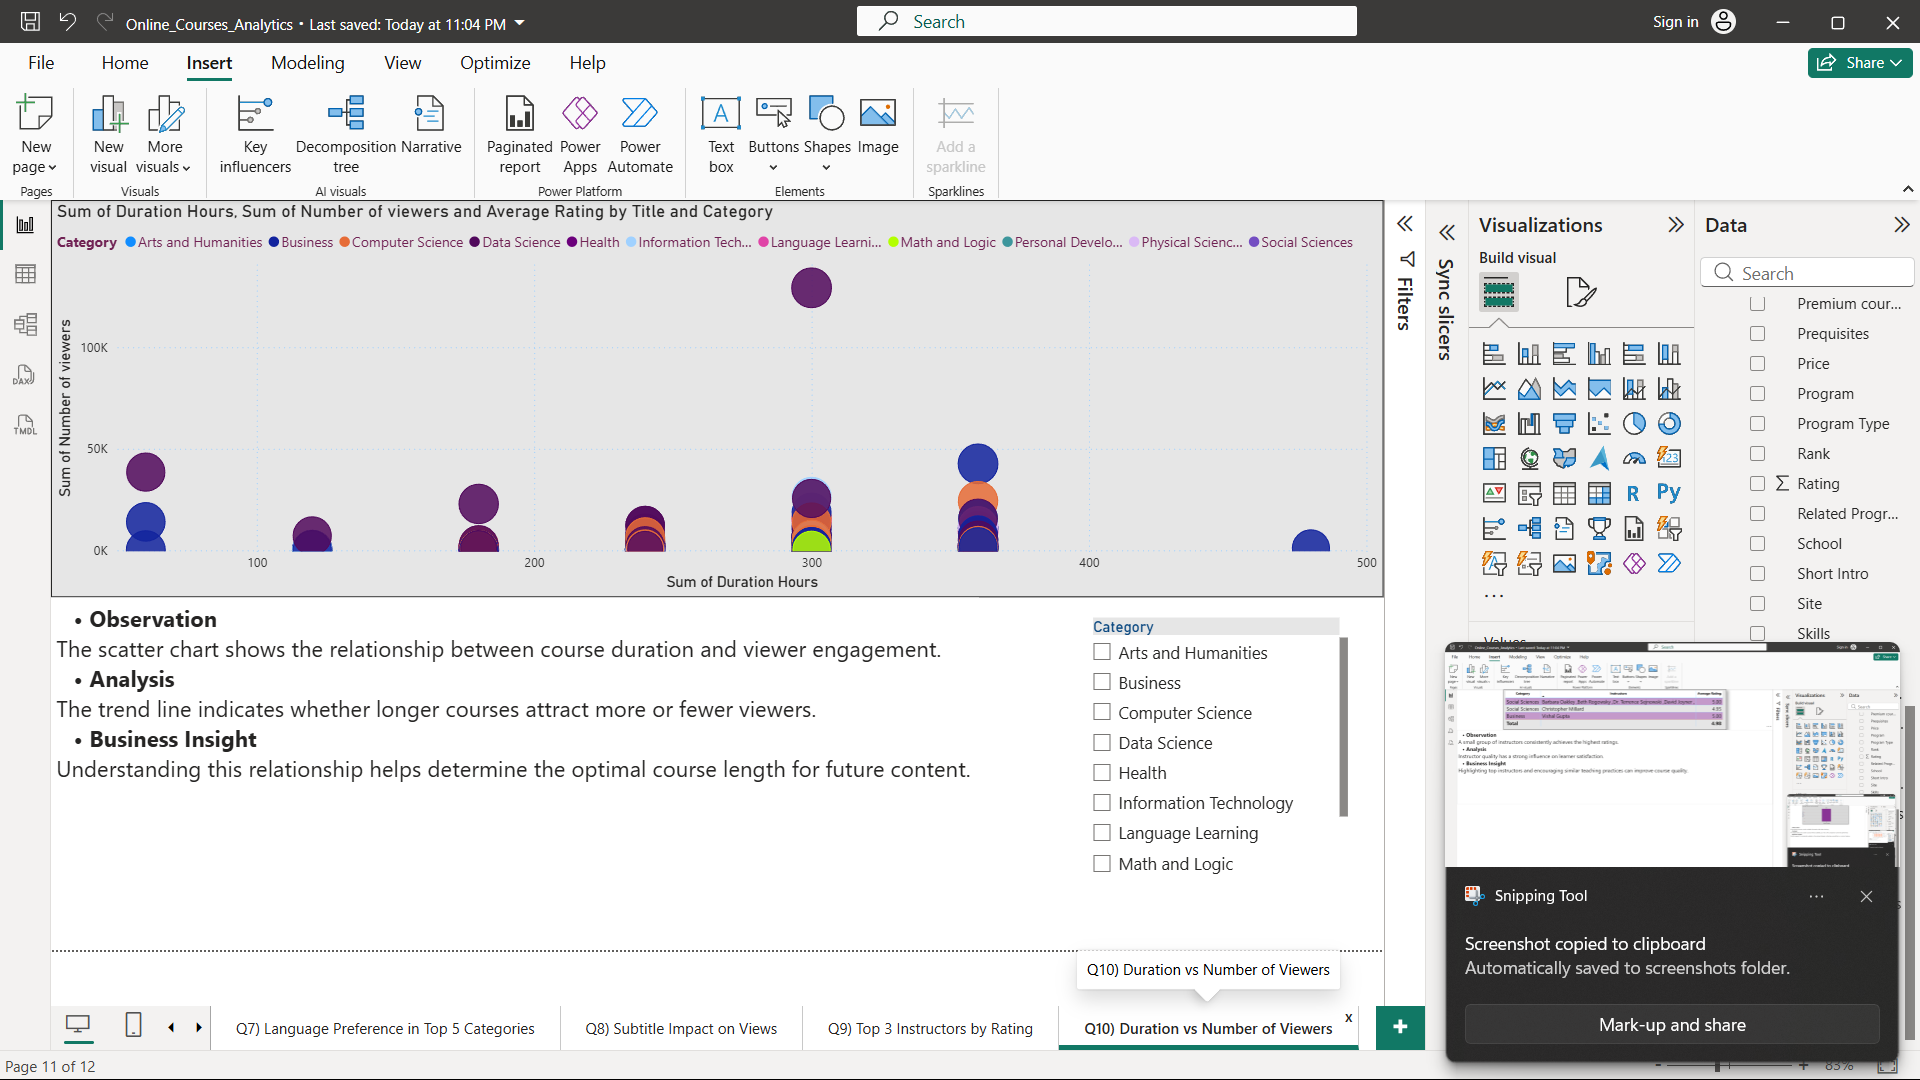

What the dashboard file says about the page in this screenshot:
{"tool":"powerbi","page":{"name":"Q10) Duration vs Number of Viewers","canvas":[1280,720],"ordinal":10},"visuals":[{"type":"scatterChart","fields":{"X":["Sum(Online_Courses.Duration Hours)"],"Y":["Sum(Online_Courses.Number of viewers)"],"Series":["Online_Courses.Category"],"Size":["Online_Courses.Average Rating"],"Category":["Online_Courses.Title"]},"box":[0,0,1280,381.4],"z":0},{"type":"textbox","box":[0,381.4,891.4,187.1],"z":1000},{"type":"slicer","fields":{"Values":["Online_Courses.Category"]},"box":[988.2,395.7,262.3,263.4],"z":2000}]}

Visuals, with their boxes on the page's 1280x720 design canvas (x1, y1, x2, y2). These are canvas units, not pixel positions in the 1920x1080 screenshot, which may show the page scaled, cropped or inside an application window:
scatterChart - Sum(Online_Courses.Duration Hours) x Sum(Online_Courses.Number of viewers): (x1=0, y1=0, x2=1280, y2=381)
textbox: (x1=0, y1=381, x2=891, y2=568)
slicer - Online_Courses.Category: (x1=988, y1=396, x2=1250, y2=659)
